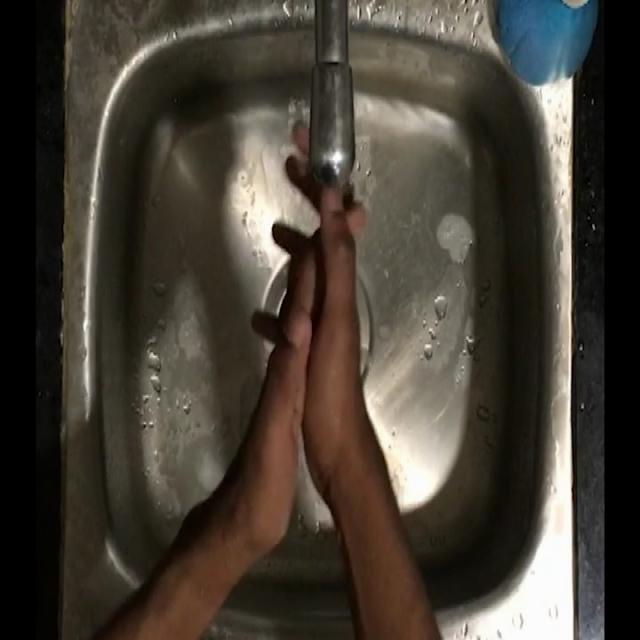step_3: (241, 111, 385, 522)
